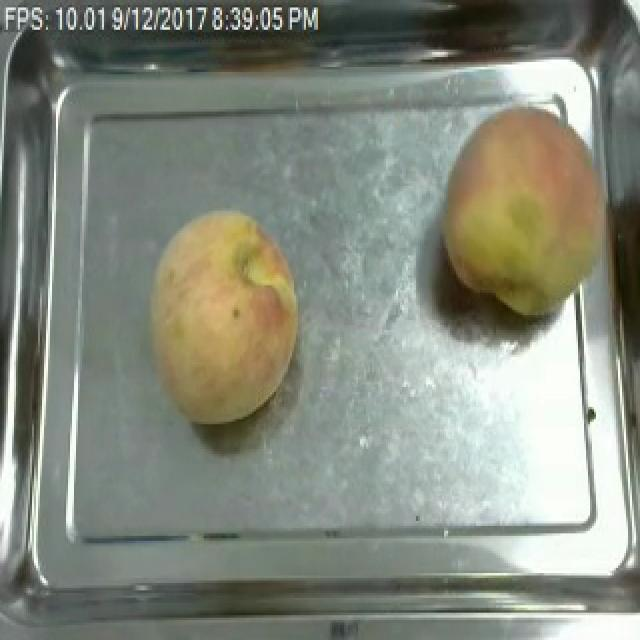Fruit: (432, 97, 622, 327), (140, 206, 308, 432)
